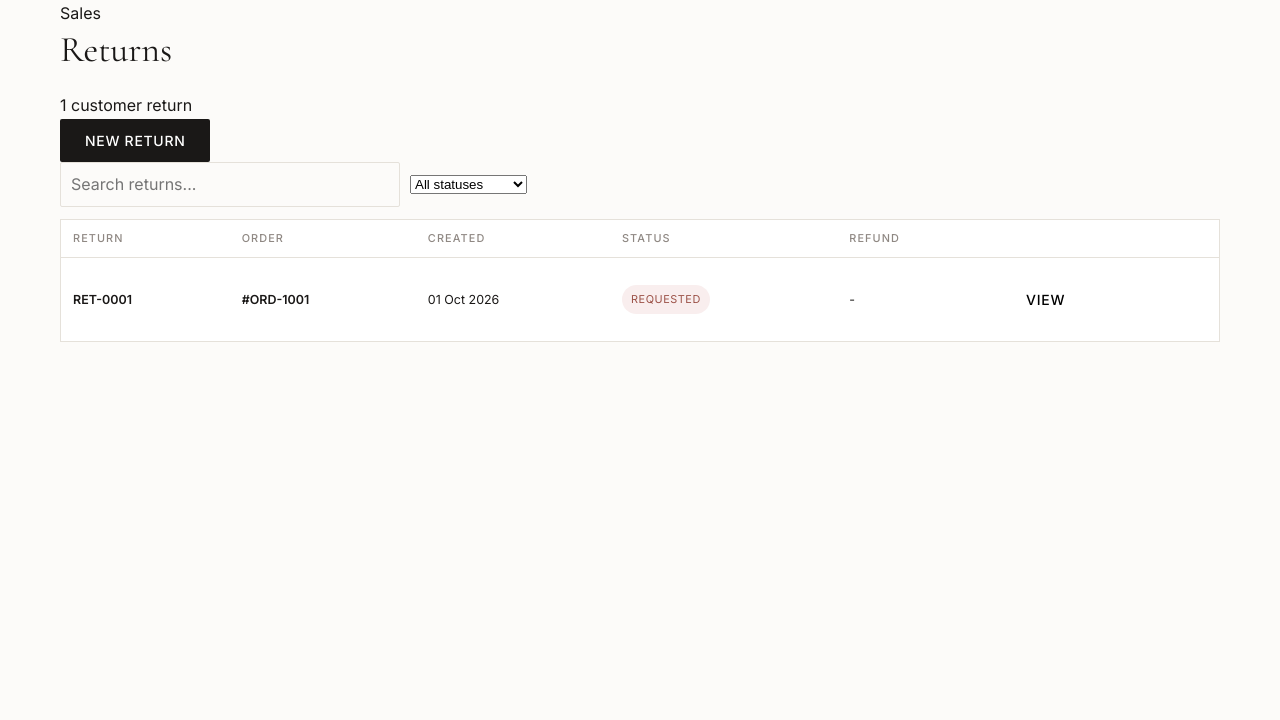
Test: Returns admin page › updates the status with the note and shows server-confirmed state
The width and height of the screenshot is (1280, 720).
Expected: the text "RET-0001" is shown, x1=73 y1=292 x2=132 y2=307
Click the button "View".
click(1046, 300)  # box x1=1001 y1=278 x2=1090 y2=321
(page scrolled)
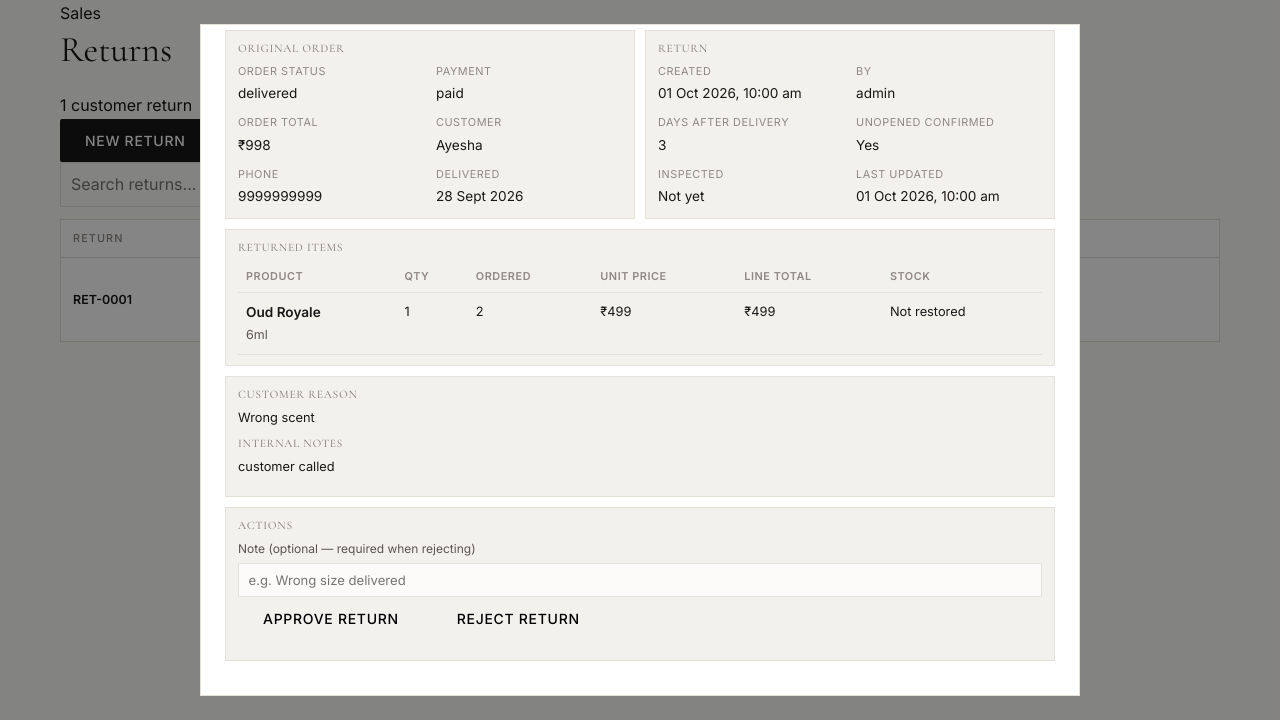
Expected: the dialog is shown
Type "policy allows" into the field with placeholder "e.g. Wrong size delivered".
click(640, 580); type("policy allows")  # box x1=238 y1=563 x2=1042 y2=597
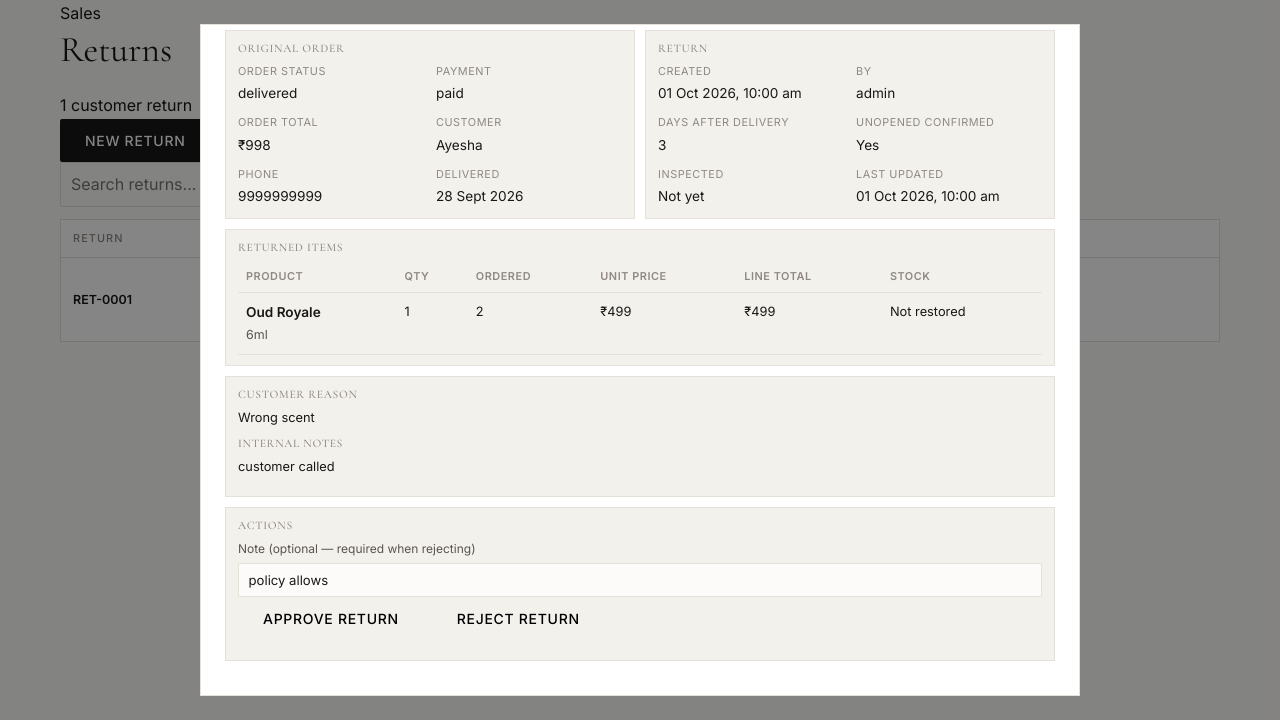
Click the button "Approve return".
click(331, 618)  # box x1=238 y1=597 x2=424 y2=640
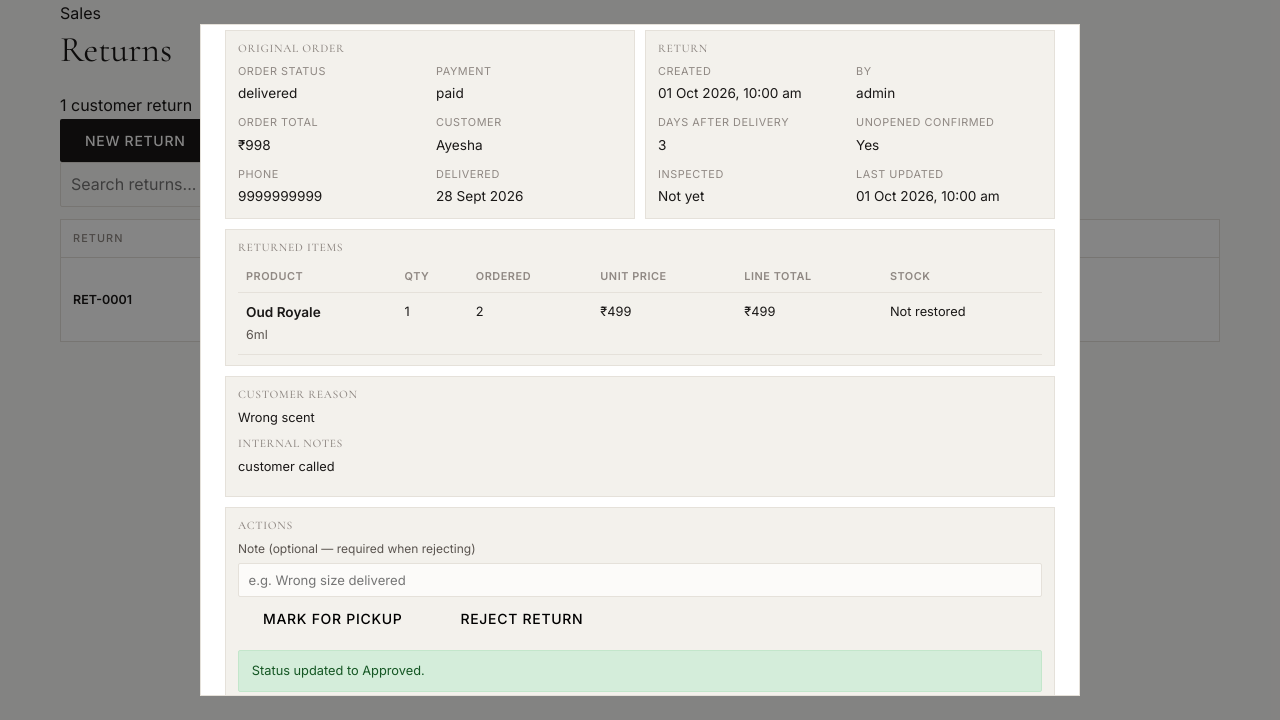
Expected: the text "Status updated to Approved." is shown, x1=238 y1=650 x2=1042 y2=692
Expected: the button "Mark for pickup" is shown, x1=238 y1=597 x2=428 y2=640
